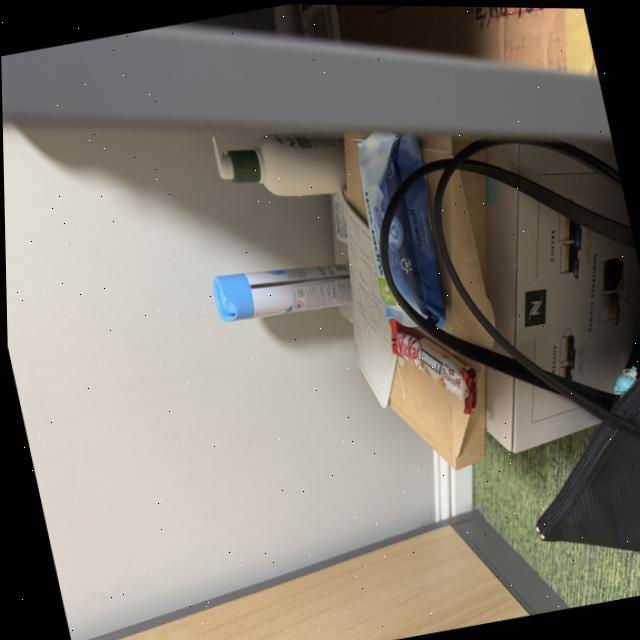chocolate: (378, 307, 483, 432)
